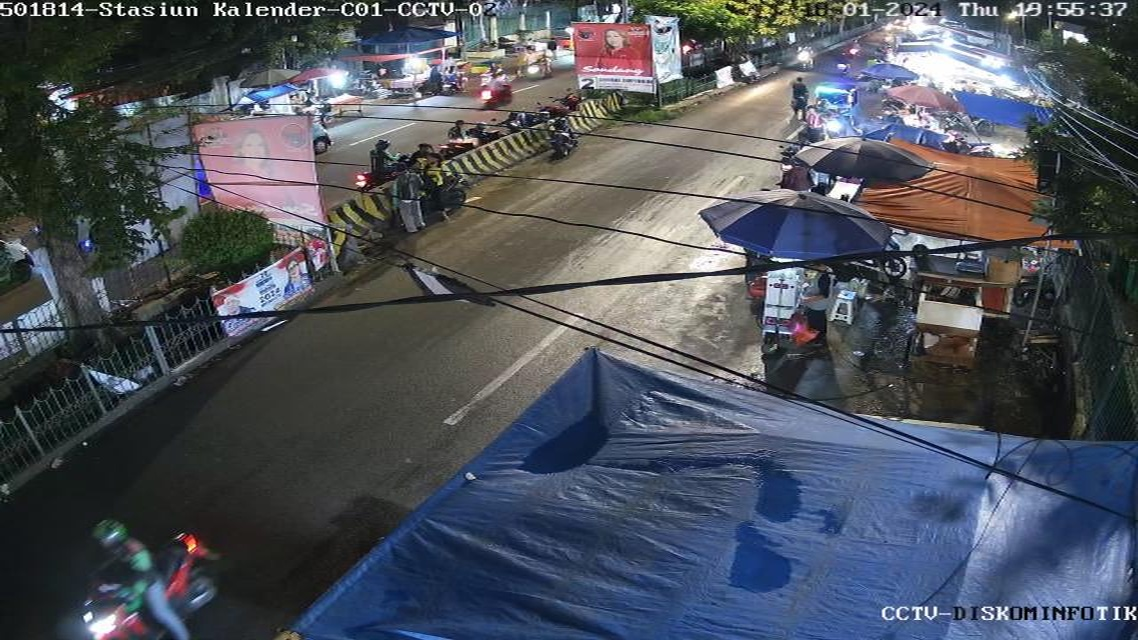Gerobak: (743, 256, 832, 351)
